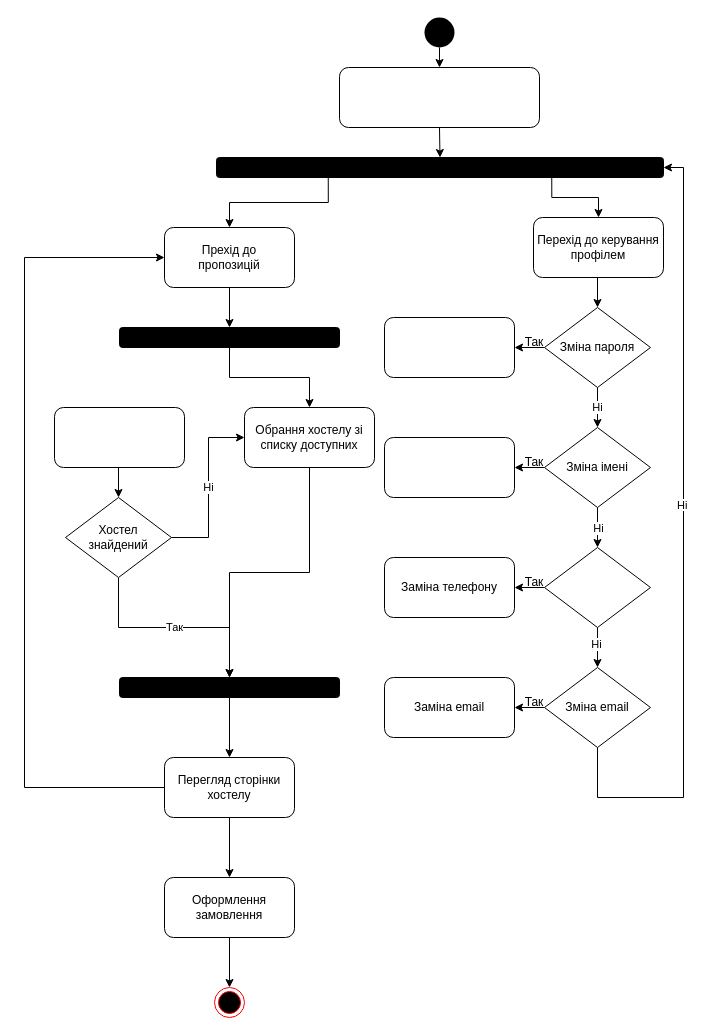
Some shapes in this 713 by 1035 pixel diagram are drawn without their labels. Each missing label, with the centre of its shape:
"Авторизація клієнта" goes at pixel 439 97.
"Заміна пароля" goes at pixel 449 347.
"Заміна імені" goes at pixel 449 467.
"Зміна телефону" goes at pixel 597 587.
"Обрання хостелу за пошуковим запитом" goes at pixel 119 437.
